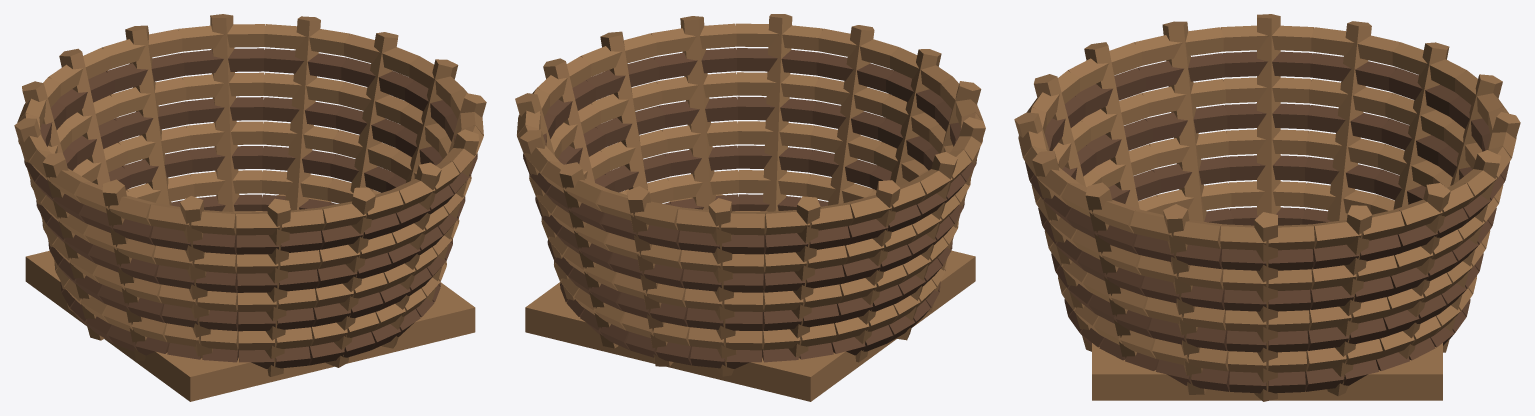
Rendered from basket.glb.
The picture shows the model from 3 angles, left to right: view 1: azimuth 30°, elevation 25°; view 2: azimuth 150°, elevation 25°; view 3: azimuth 270°, elevation 25°; orthographic projection. The views are drawn at different scales.
Parts seen in each view (by area): view 1: Woven_basket; view 2: Woven_basket; view 3: Woven_basket.
Boxes of the visible parts, x1=… form: Woven_basket: x1=14, y1=14, x2=486, y2=401; Woven_basket: x1=515, y1=14, x2=985, y2=401; Woven_basket: x1=1014, y1=14, x2=1520, y2=401.
Size of the model in its own units: 0.6931 by 0.3194 by 0.6931.
